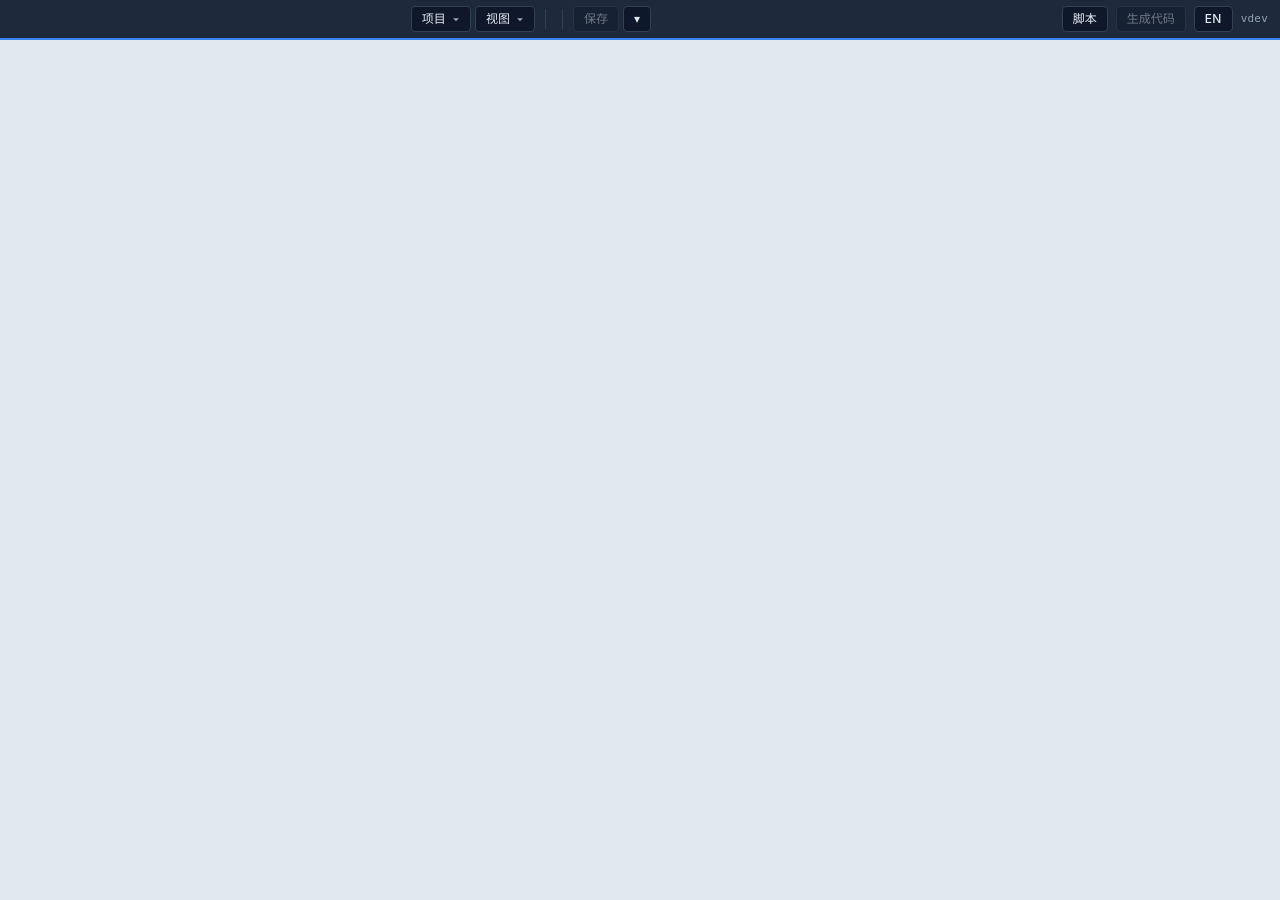
Test: App local error boundaries (P2 fault injection) › throwing ScriptPanel degrades to panel-error-script-panel inside its host
This screenshot has width=1280, height=900.
Click the button with test id "btn-scripts-toggle" at (1085, 19), box [1062,6,1108,32]
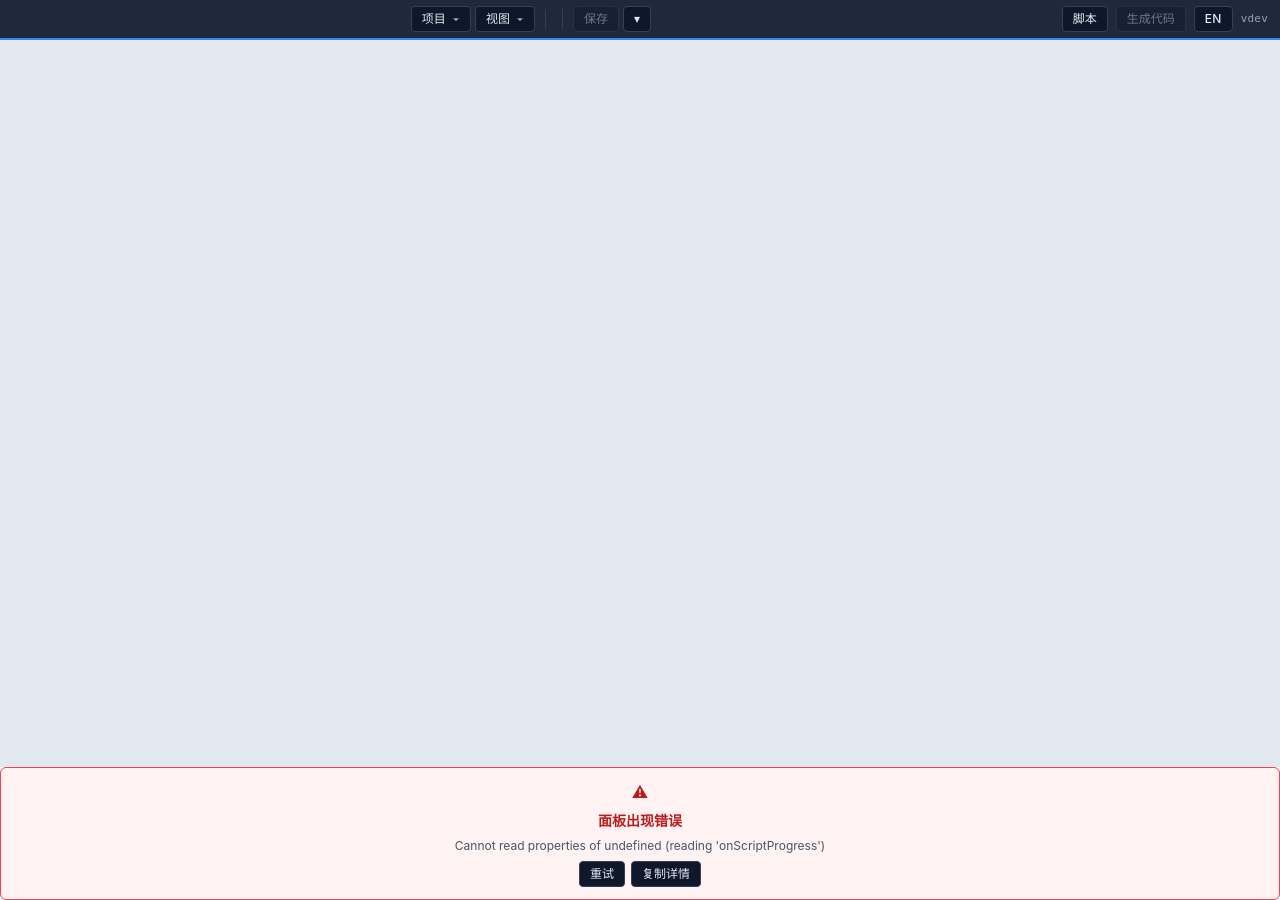
Expected: the header with test id "app-header" is shown, [0,0,1279,40]
Now the message with test id "panel-error-script-panel" is shown, box [0,767,1279,899]
